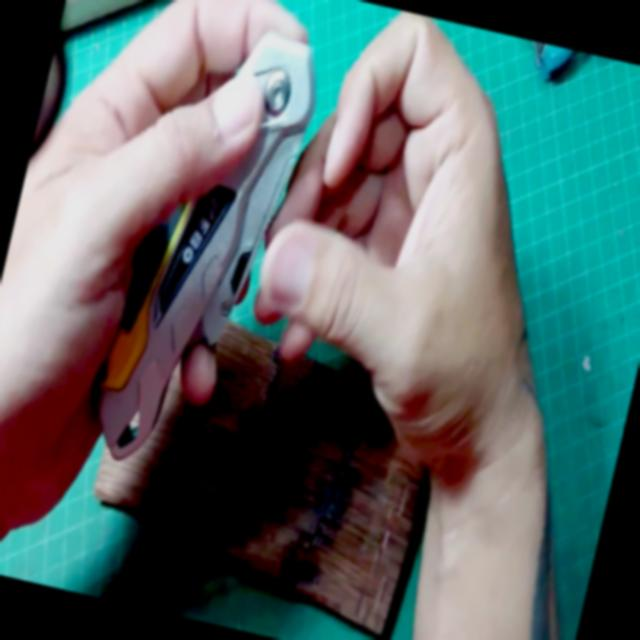cutter: (0, 0, 331, 596)
